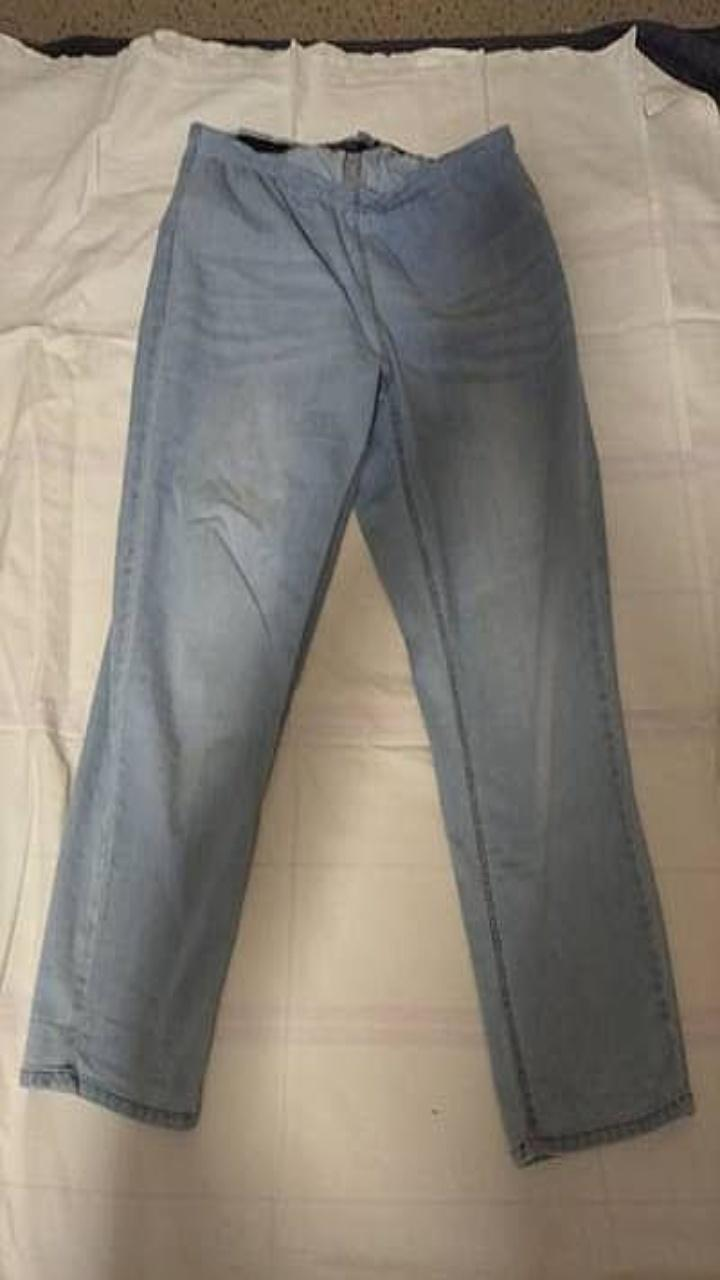Jeans: (20, 122, 694, 1165)
